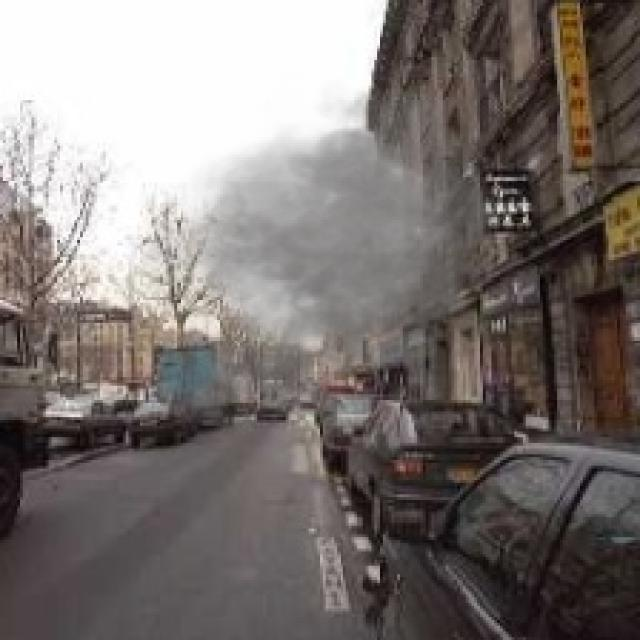smoke: (117, 71, 523, 443)
